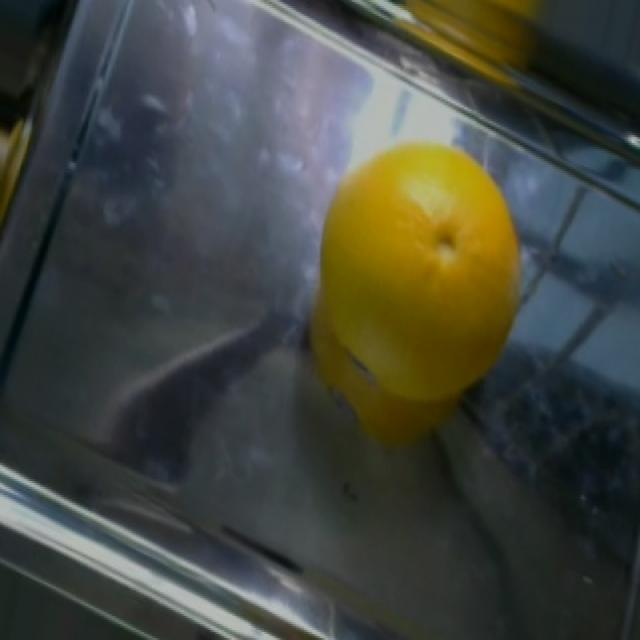Fruit: (289, 115, 544, 445)
